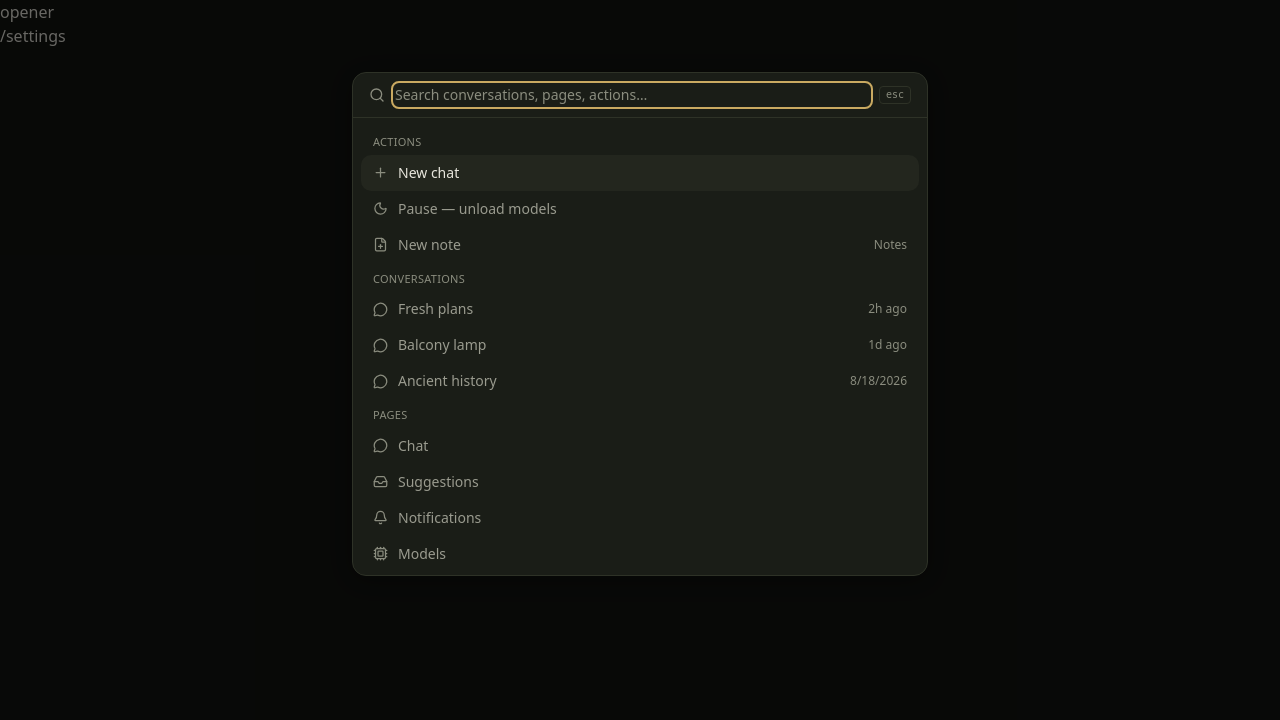
Test: Command palette (#491) › offers New note only when a notes editor page exists, deep-linking ?new=1
Check: the text "Fresh plans" is shown, box [398,299,473,318]
Click the text "New note" at x=430, y=244, box [398,234,461,254]
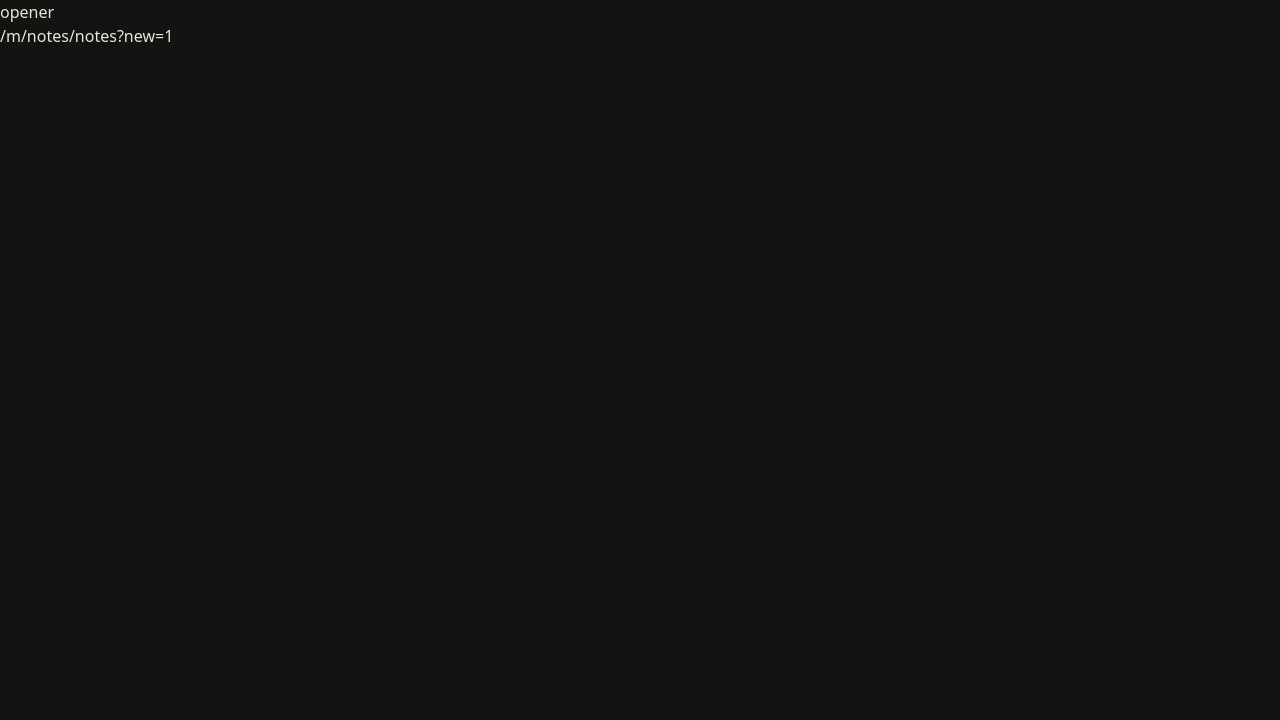
Check: the text with test id "location" reads "/m/notes/notes?new=1", box [0,25,173,47]
